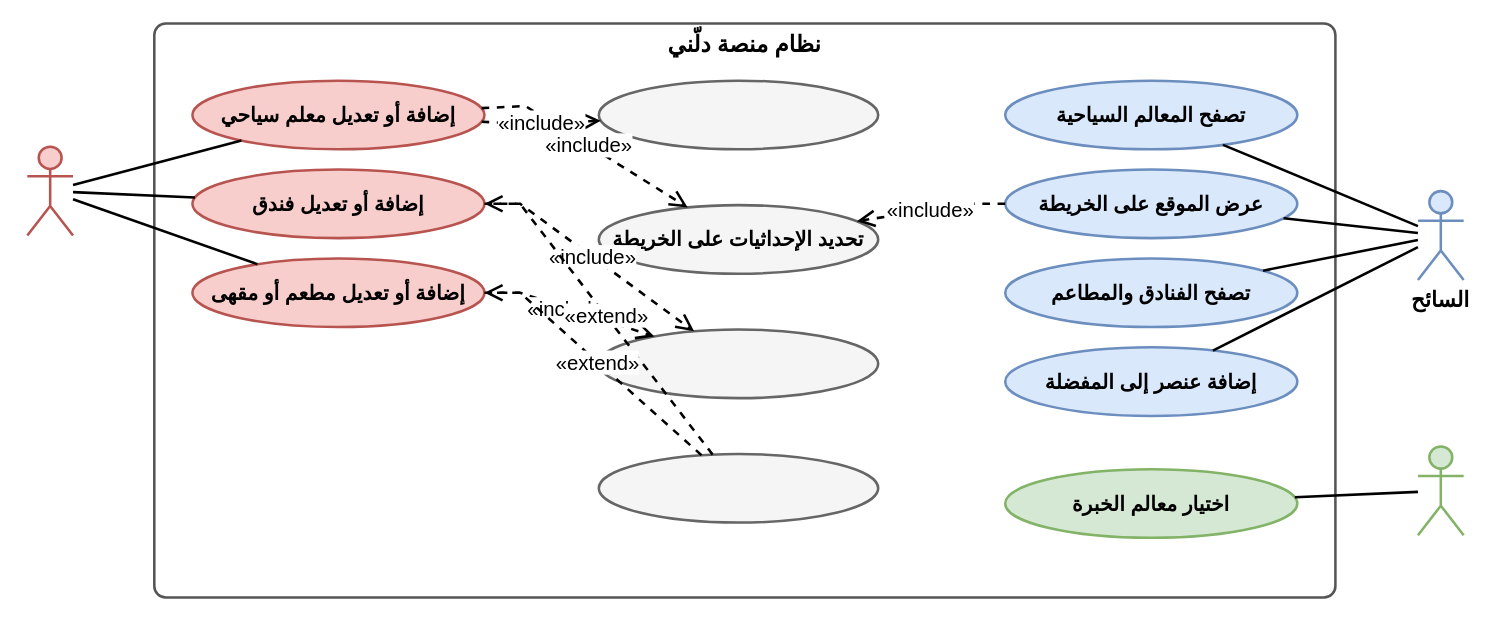
The diagram is 1501 pixels wide and 620 high, and some of its shapes have lost their labels. Here are the shapes that lost their labels. From the top down, the centre of each, then its label:
the point at 738,114: إدارة أبرز المزارات
the point at 49,190: مدير النظام
the point at 738,363: إدارة الخدمات والميزات
the point at 738,487: تحديد خصم الشراكة ومدة العقد
the point at 1440,490: المرشد السياحي
